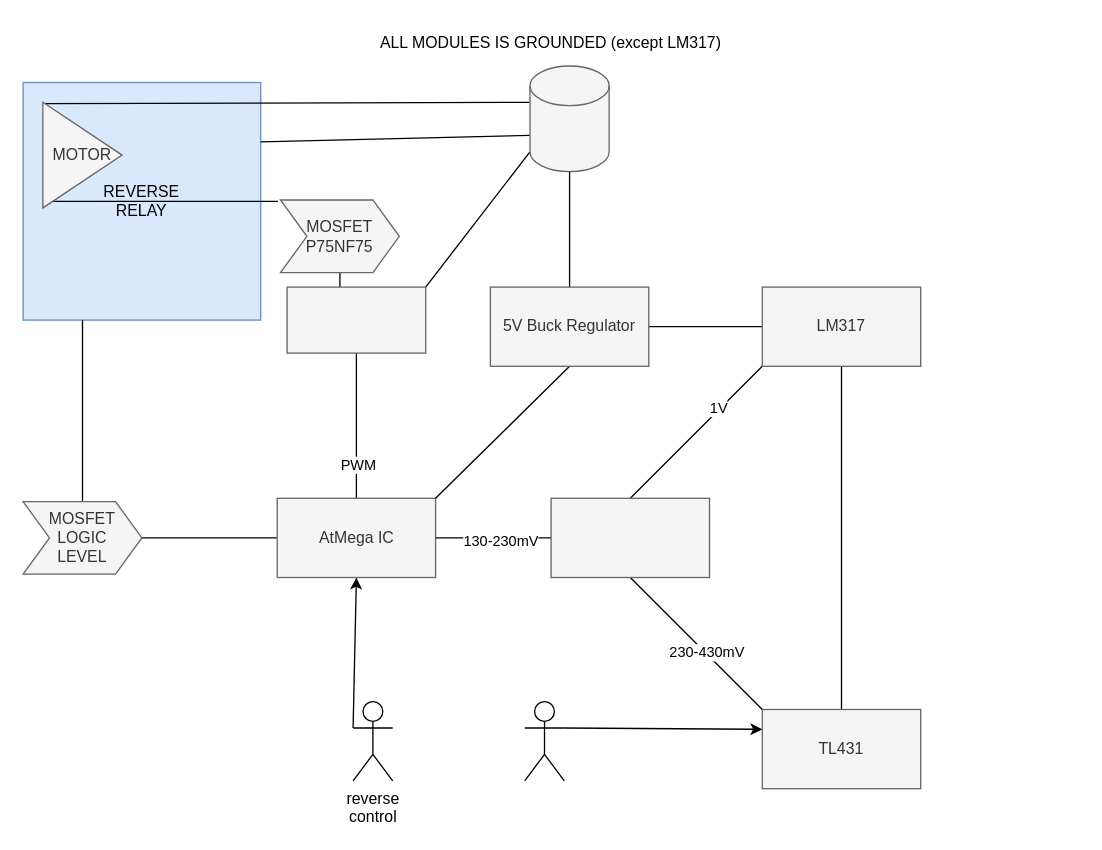
This 1102x850 diagram has some shape labels left out. The shapes that lost their labels are listed below. From the top down, each one's centre as x and y in pixels, then its label:
At point (569, 118): "12V battery".
At point (356, 319): "DRIVER TC".
At point (630, 537): "OP AMP".
At point (543, 740): "240-4500 Ohm accel control".
